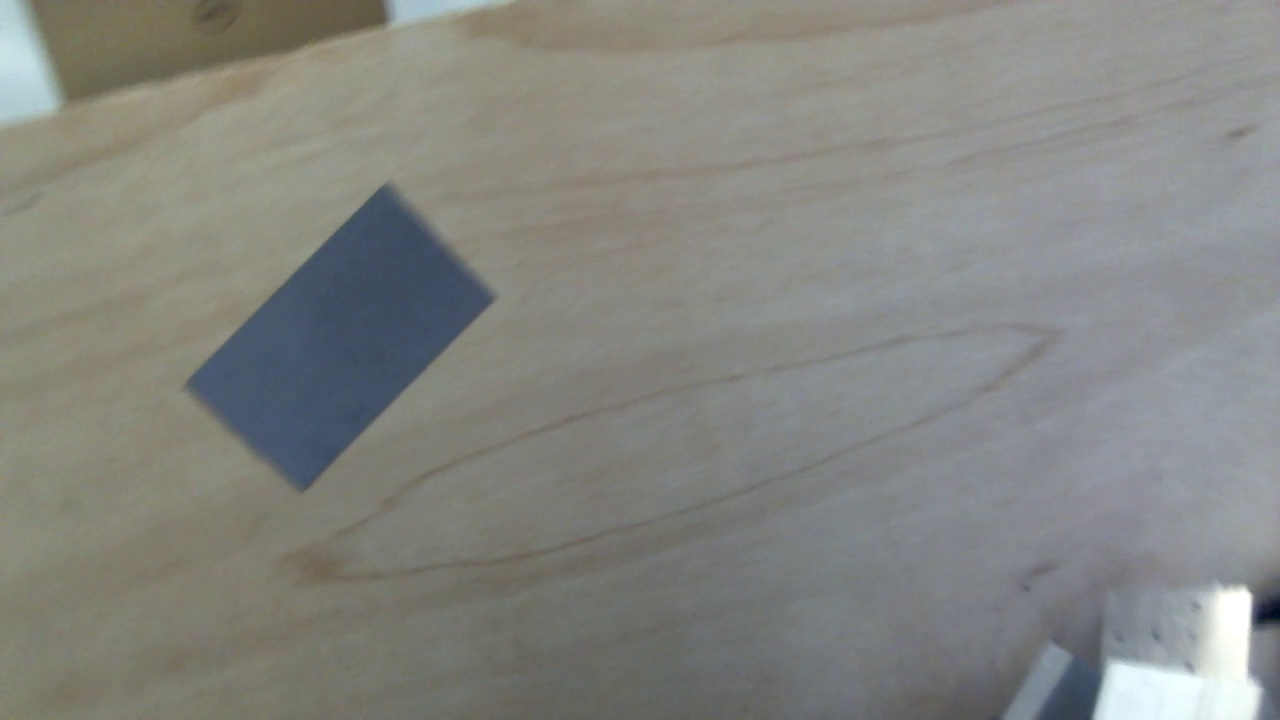Tape: (177, 179, 500, 494)
